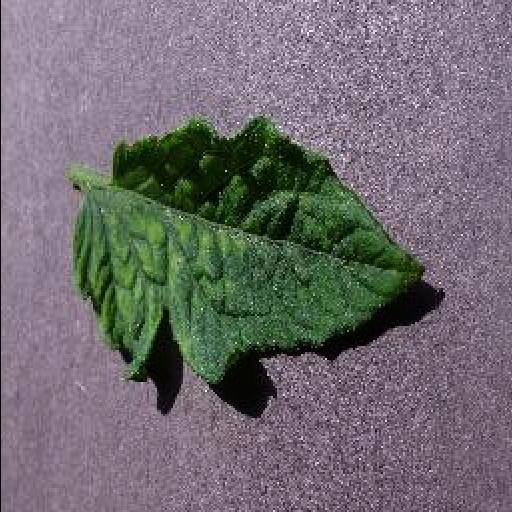Mosaic Virus: (72, 115, 426, 389)
